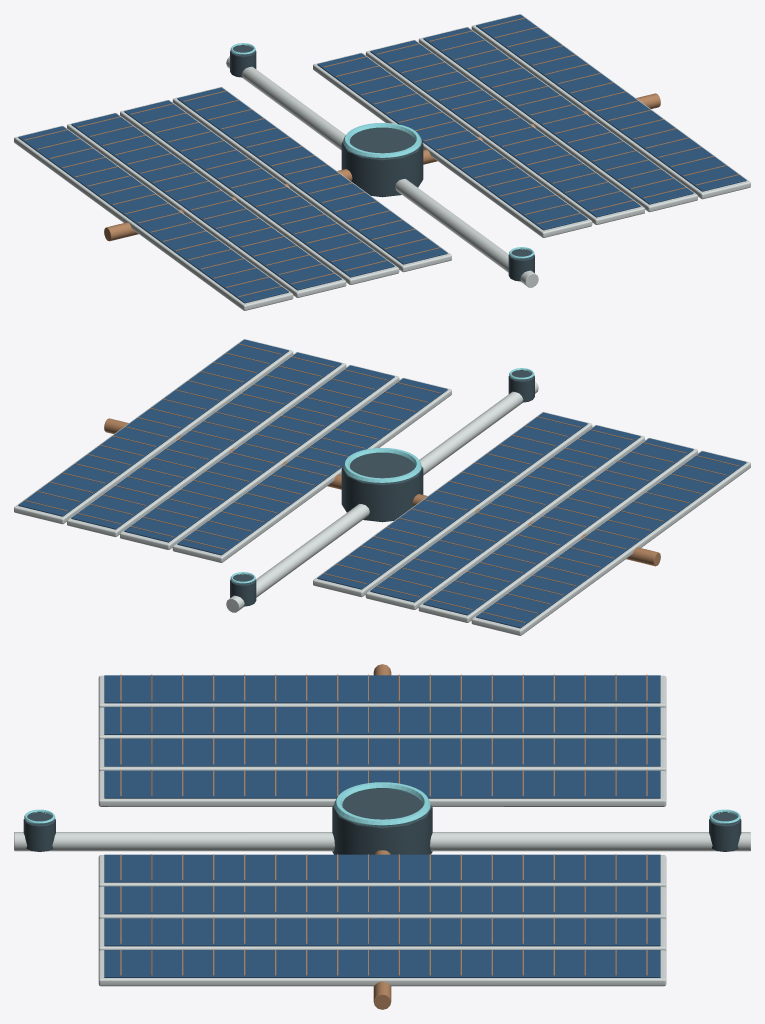
File: SolarSail112.fbx
The picture shows the model from 3 angles, top to bottom: view 1: azimuth 30°, elevation 25°; view 2: azimuth 150°, elevation 25°; view 3: azimuth 270°, elevation 25°; orthographic projection. The views are drawn at different scales.
Parts seen in each view (by area): view 1: Photovoltaic field.006, Photovoltaic field, Photovoltaic field.002, Photovoltaic field.001, Photovoltaic field.005, Photovoltaic field.007, Photovoltaic field.003, Photovoltaic field.004, Antenna keel, Attitude hub, Solar panel rim.003, Solar panel rim.004 (+10 smaller); view 2: Photovoltaic field, Photovoltaic field.006, Photovoltaic field.001, Photovoltaic field.002, Photovoltaic field.005, Photovoltaic field.007, Photovoltaic field.003, Photovoltaic field.004, Antenna keel, Attitude hub, Solar panel rim.003, Solar panel rim.004 (+10 smaller); view 3: Photovoltaic field.005, Photovoltaic field.003, Photovoltaic field.006, Photovoltaic field.004, Photovoltaic field.001, Photovoltaic field.002, Photovoltaic field.007, Photovoltaic field, Antenna keel, Solar panel rim.007, Attitude hub, Solar panel rim (+9 smaller).
Boxes of the visible parts, x1,y1,x2,y2 form: Photovoltaic field.006: (423,27,693,204); Photovoltaic field: (177,87,447,264); Photovoltaic field.002: (71,113,341,290); Photovoltaic field.001: (124,100,394,277); Photovoltaic field.005: (370,40,640,217); Photovoltaic field.007: (476,14,746,191); Photovoltaic field.003: (18,126,288,303); Photovoltaic field.004: (317,53,587,230); Antenna keel: (226,56,538,287); Attitude hub: (341,128,423,197); Solar panel rim.003: (14,125,293,310); Solar panel rim.004: (313,52,592,237); Photovoltaic field: (317,412,587,589); Photovoltaic field.006: (71,352,341,529); Photovoltaic field.001: (370,425,640,602); Photovoltaic field.002: (423,438,693,615); Photovoltaic field.005: (124,365,394,542); Photovoltaic field.007: (18,339,288,516); Photovoltaic field.003: (476,451,746,628); Photovoltaic field.004: (177,378,447,555); Antenna keel: (226,381,538,612); Attitude hub: (341,453,423,522); Solar panel rim.003: (471,450,750,635); Solar panel rim.004: (172,377,451,562); Photovoltaic field.005: (104,886,660,914); Photovoltaic field.003: (104,675,660,703); Photovoltaic field.006: (104,918,660,946); Photovoltaic field.004: (104,854,660,882); Photovoltaic field.001: (104,738,660,766); Photovoltaic field.002: (104,707,660,734); Photovoltaic field.007: (104,950,660,977); Photovoltaic field: (104,770,660,798); Antenna keel: (14,832,750,851); Solar panel rim.007: (98,950,666,986); Attitude hub: (332,789,432,854); Solar panel rim: (98,771,666,806).
Bounding box in the file's own units: 1060 × 76.76 × 1000.
